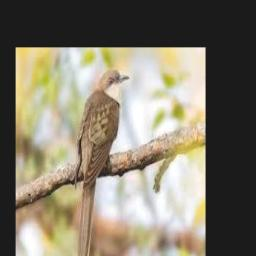Cuckoo: (76, 68, 130, 256)
